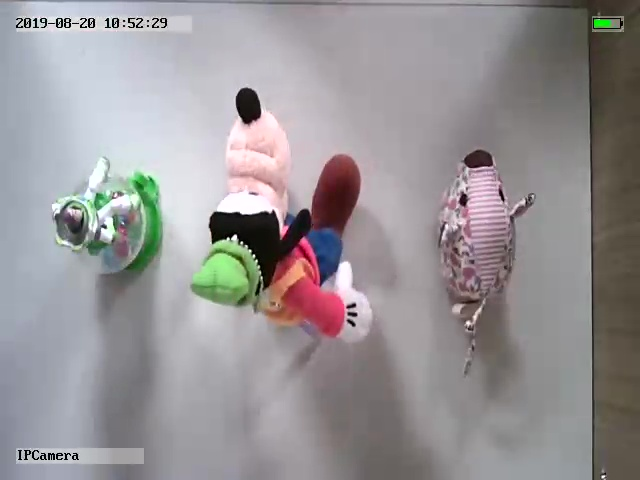buzz: (51, 156, 165, 274)
goofy: (189, 87, 374, 343)
pig: (435, 149, 537, 378)
